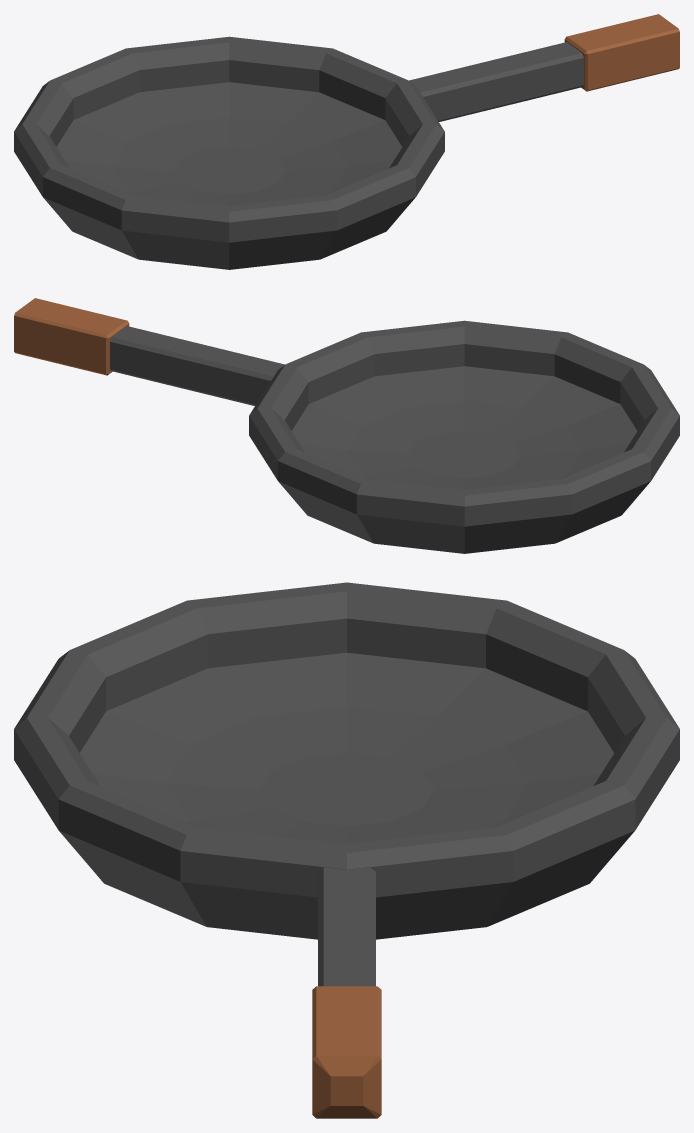
File: pan.gltf
3 renders of one model, top to bottom at view 1: azimuth 30°, elevation 25°; view 2: azimuth 150°, elevation 25°; view 3: azimuth 270°, elevation 25°, orthographic. The views are drawn at different scales.
Parts seen in each view (by area): view 1: Pan; view 2: Pan; view 3: Pan.
Boxes of the visible parts, x1,y1,x2,y2 form: Pan: [14, 14, 679, 269]; Pan: [14, 298, 679, 553]; Pan: [14, 582, 679, 1118].
Bounding box in the file's own units: 1.89 × 0.1973 × 1.12.
